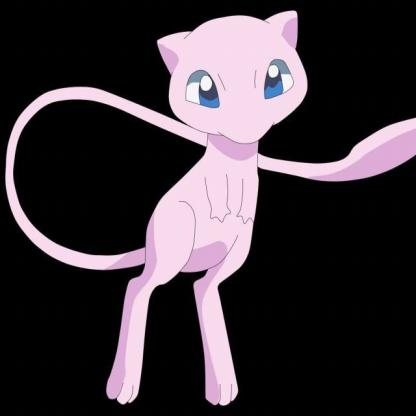Mew: (1, 17, 416, 409)
